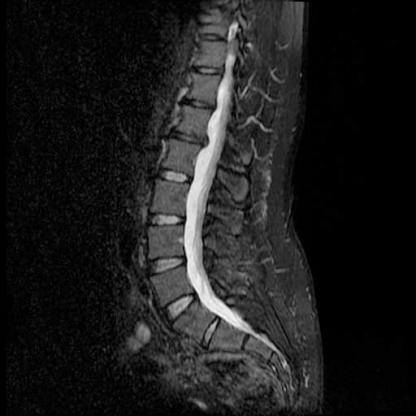Annular Disc Relaxationrotation: (168, 287, 194, 327), (202, 314, 222, 349)
Degenerative Disc Diseaserotation: (169, 286, 194, 327), (156, 168, 190, 188), (201, 315, 220, 348)
Disc Bulgerotation: (156, 167, 190, 188)
